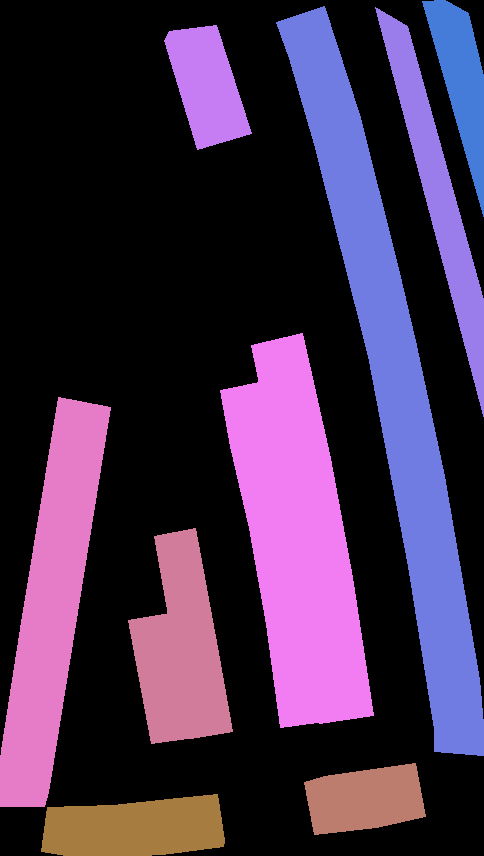parkingspot: (276, 6, 483, 755), (251, 333, 373, 723), (0, 397, 110, 806), (375, 7, 484, 418), (220, 381, 324, 727), (154, 528, 232, 738), (422, 0, 484, 218), (41, 794, 224, 856), (164, 25, 251, 149), (304, 763, 425, 834), (128, 613, 194, 743)
